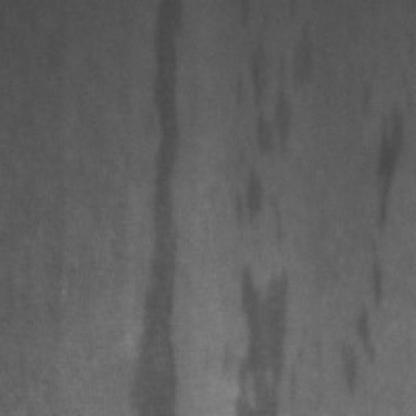inclusion: (122, 0, 202, 410), (330, 73, 402, 387), (218, 2, 316, 150), (231, 260, 287, 414), (229, 158, 281, 244)
